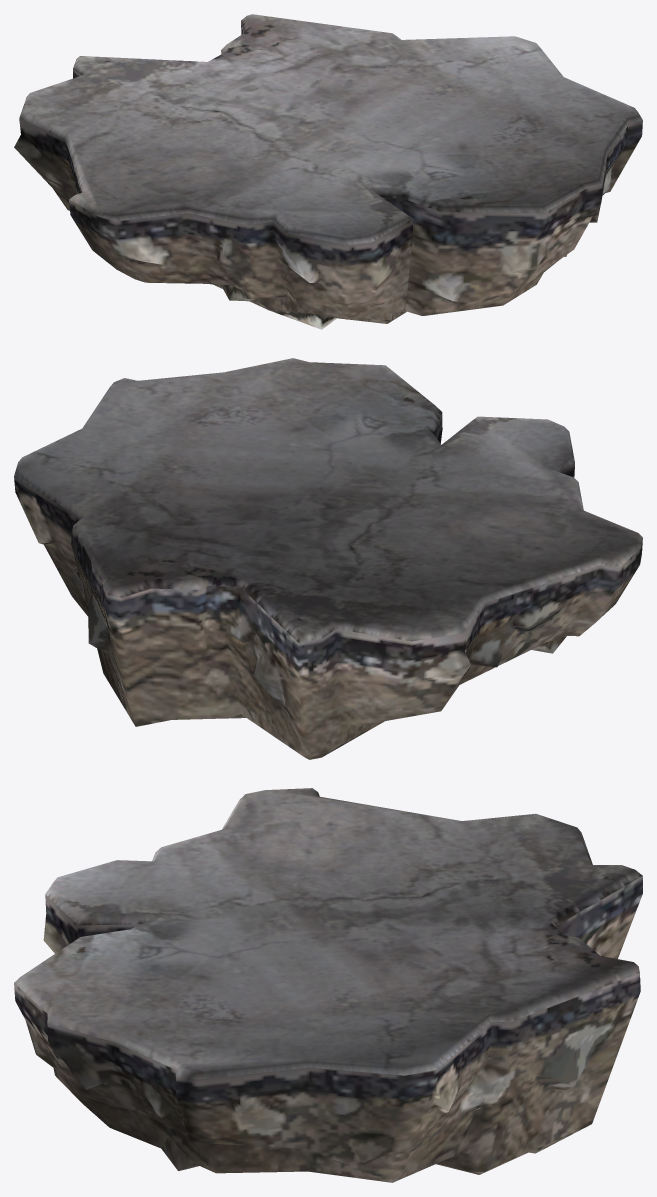
The model's file is greengoblin_fusion_cp_projectile.glb.
3 views of the same model, one above another, from view 1: azimuth 30°, elevation 25°; view 2: azimuth 150°, elevation 25°; view 3: azimuth 270°, elevation 25° (orthographic). The views are drawn at different scales.
Visible parts, largest first — view 1: greengoblin_fusion_cp_projectile_0; view 2: greengoblin_fusion_cp_projectile_0; view 3: greengoblin_fusion_cp_projectile_0.
Part boxes in pixels (<box>): greengoblin_fusion_cp_projectile_0: <box>14,14,642,329</box>; greengoblin_fusion_cp_projectile_0: <box>14,358,642,759</box>; greengoblin_fusion_cp_projectile_0: <box>14,788,642,1182</box>.
Bounding box in the file's own units: 99.97 × 28.58 × 92.36.
1 material, 1 textured.
